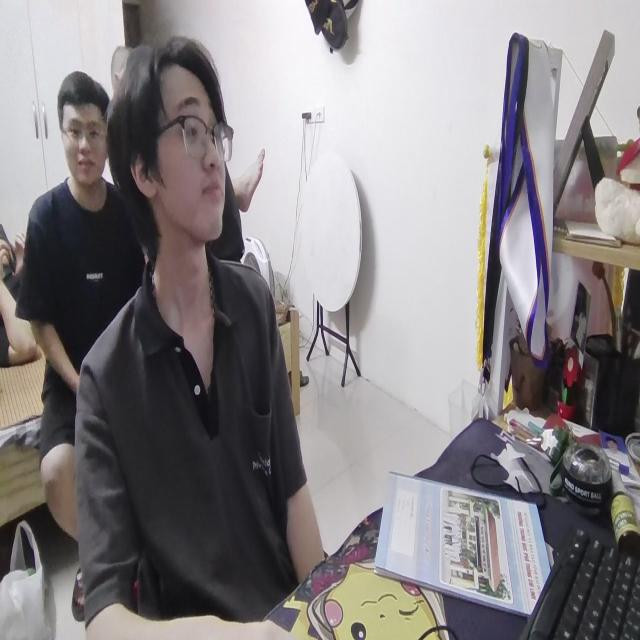book: (374, 460, 552, 629)
extra_person: (12, 71, 149, 508)
student: (73, 32, 325, 640)
